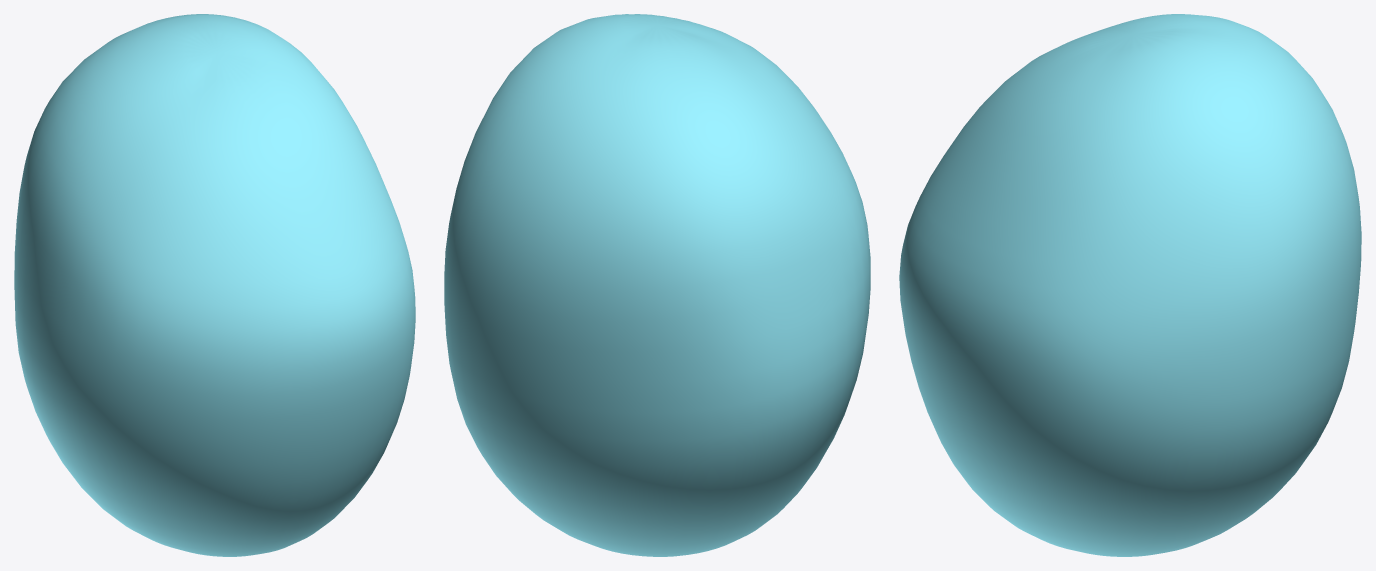
File: cut_fireman.fbx
3 views of the same model, side by side, from view 1: azimuth 30°, elevation 25°; view 2: azimuth 150°, elevation 25°; view 3: azimuth 270°, elevation 25° (orthographic). The views are drawn at different scales.
Parts seen in each view (by area): view 1: cut_fireman; view 2: cut_fireman; view 3: cut_fireman.
Boxes of the visible parts, left/top/right/bottom form: cut_fireman: left=14, top=14, right=415, bottom=556; cut_fireman: left=444, top=14, right=870, bottom=556; cut_fireman: left=899, top=14, right=1361, bottom=556.
Bounding box in the file's own units: 183 × 261 × 212.
